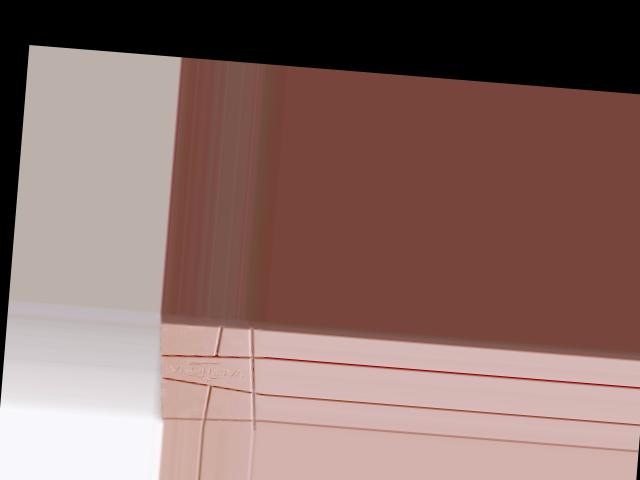chocolate: (150, 316, 269, 431)
